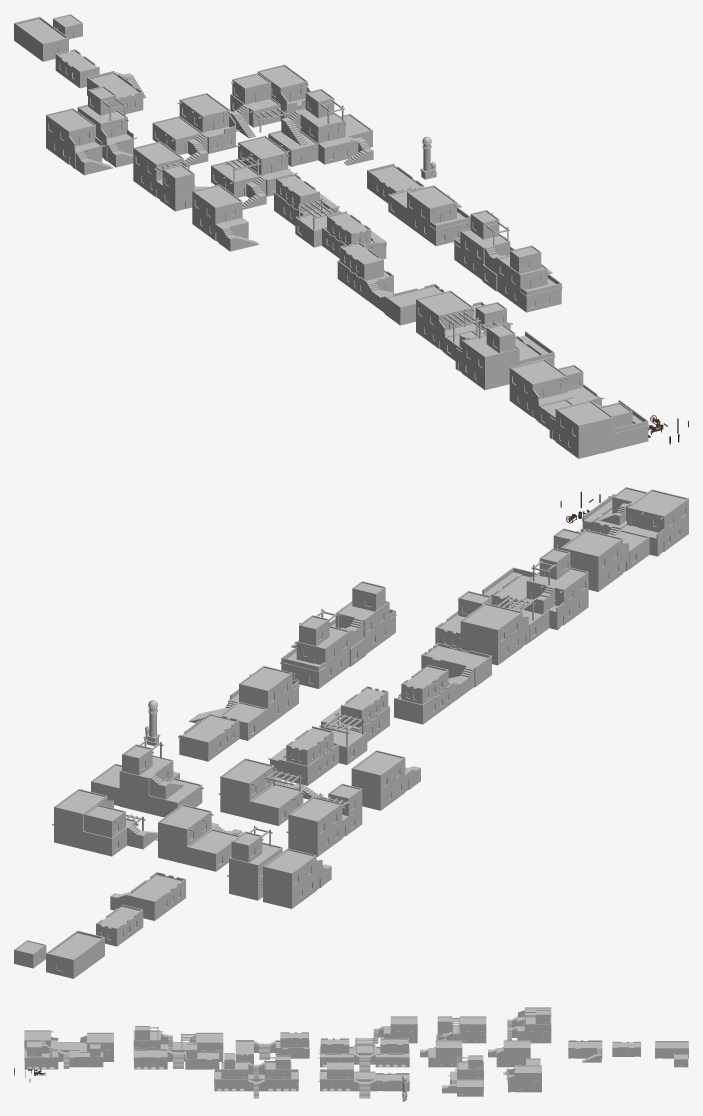
Rendered from Arabic assets.fbx.
3 views of the same model, one above another, from view 1: azimuth 30°, elevation 25°; view 2: azimuth 150°, elevation 25°; view 3: azimuth 270°, elevation 25° (orthographic). The views are drawn at different scales.
Parts seen in each view (by area): view 1: House_2_5, House_3_4, House_3_3, House_3_2, House_2_10, House_2_6, House_2_8, House_2_7, House_2_4, House_2_9, House_2_2, House_2_1 (+5 smaller); view 2: House_3_4, House_2_5, House_3_3, House_2_10, House_2_6, House_3_2, House_2_4, House_2_7, House_2_9, House_2_8, House_2_2, House_2_1 (+5 smaller); view 3: House_3_4, House_2_5, House_3_3, House_2_10, House_2_6, House_2_4, House_3_2, House_2_2, House_3_1, House_2_7, House_2_9, House_2_8 (+6 smaller).
Boxes of the visible parts, x1,y1,x2,y2 form: House_2_5: [509, 359, 649, 458]; House_3_4: [416, 290, 555, 390]; House_3_3: [453, 210, 562, 312]; House_3_2: [268, 89, 373, 166]; House_2_10: [274, 174, 386, 259]; House_2_6: [367, 163, 470, 246]; House_2_8: [152, 93, 239, 165]; House_2_7: [230, 64, 310, 138]; House_2_4: [337, 242, 443, 325]; House_2_9: [211, 135, 297, 209]; House_2_2: [133, 141, 208, 211]; House_2_1: [46, 108, 113, 175]; House_3_4: [435, 548, 588, 665]; House_2_5: [553, 487, 688, 591]; House_3_3: [280, 581, 396, 688]; House_2_10: [268, 686, 389, 785]; House_2_6: [178, 666, 299, 761]; House_3_2: [91, 738, 203, 817]; House_2_4: [394, 642, 491, 724]; House_2_7: [52, 789, 157, 856]; House_2_9: [218, 758, 324, 825]; House_2_8: [156, 804, 243, 871]; House_2_2: [286, 783, 362, 856]; House_2_1: [261, 848, 331, 908]; House_3_4: [133, 1026, 223, 1069]; House_2_5: [24, 1030, 113, 1069]; House_3_3: [214, 1053, 298, 1098]; House_2_10: [318, 1037, 409, 1071]; House_2_6: [318, 1062, 409, 1098]; House_2_4: [235, 1032, 309, 1064]; House_3_2: [442, 1055, 483, 1096]; House_2_2: [437, 1016, 486, 1043]; House_3_1: [507, 1010, 551, 1043]; House_2_7: [503, 1058, 541, 1092]; House_2_9: [420, 1034, 462, 1067]; House_2_8: [488, 1040, 530, 1067].
Size of the model in its own units: 159 by 28.1 by 603.
